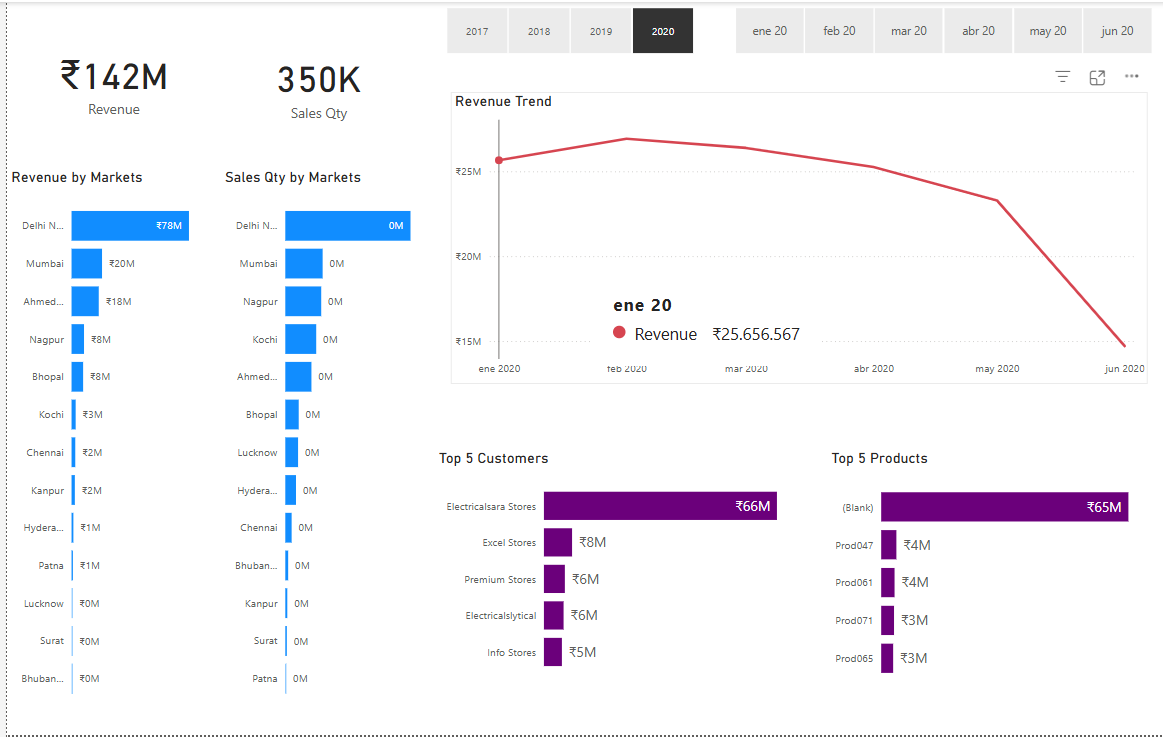

What the dashboard file says about the page in this screenshot:
{"tool":"powerbi","page":{"name":"Key Insights","canvas":[1350,850],"ordinal":0},"visuals":[{"type":"card","fields":{"Values":["BaseMeasures (2).Revenue"]},"box":[0,0,247.9,184.6],"z":0},{"type":"card","fields":{"Values":["BaseMeasures (2).Sales Qty"]},"box":[247.9,0,227.9,193.1],"z":1000},{"type":"barChart","title":"Revenue by Markets","fields":{"Y":["BaseMeasures (2).Revenue"],"Category":["sales markets.markets_name"]},"box":[0,193.1,247.9,631.9],"z":2000},{"type":"barChart","title":"Sales Qty by Markets","fields":{"Y":["BaseMeasures (2).Sales Qty"],"Category":["sales markets.markets_name"]},"box":[247.9,193.1,247.9,631.9],"z":3000},{"type":"slicer","fields":{"Values":["sales date.year"]},"box":[483.2,0,335.5,66.5],"z":4000},{"type":"slicer","fields":{"Values":["sales date.cy_date"]},"box":[818.6,0,531.7,66.5],"z":5000},{"type":"barChart","title":"Top 5 Customers","fields":{"Y":["BaseMeasures (2).Revenue"],"Category":["sales customers.custmer_name"]},"box":[495.8,519,446.2,274.3],"z":6000},{"type":"barChart","title":"Top 5 Products","fields":{"Y":["BaseMeasures (2).Revenue"],"Category":["sales products.product_code"]},"box":[950.7,519.2,399.5,282.8],"z":7000},{"type":"lineChart","title":"Revenue Trend","fields":{"Y":["BaseMeasures (2).Revenue"],"Category":["sales date.cy_date"]},"box":[513.8,104.4,809.1,338.6],"z":8000}]}

Visuals, with their boxes on the page's 1350x850 design canvas (x1, y1, x2, y2). These are canvas units, not pixel positions in the 1163x737 screenshot, which may show the page scaled, cropped or inside an application window:
card - BaseMeasures (2).Revenue: rect(0, 0, 248, 185)
card - BaseMeasures (2).Sales Qty: rect(248, 0, 476, 193)
"Revenue by Markets" barChart: rect(0, 193, 248, 825)
"Sales Qty by Markets" barChart: rect(248, 193, 496, 825)
slicer - sales date.year: rect(483, 0, 819, 66)
slicer - sales date.cy_date: rect(819, 0, 1350, 66)
"Top 5 Customers" barChart: rect(496, 519, 942, 793)
"Top 5 Products" barChart: rect(951, 519, 1350, 802)
"Revenue Trend" lineChart: rect(514, 104, 1323, 443)
